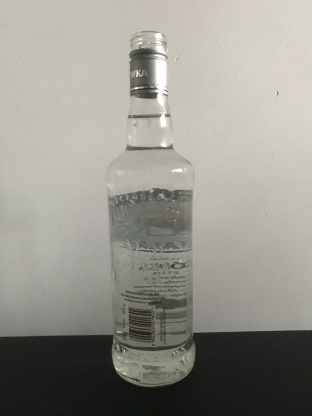nakretka: (127, 29, 169, 98)
